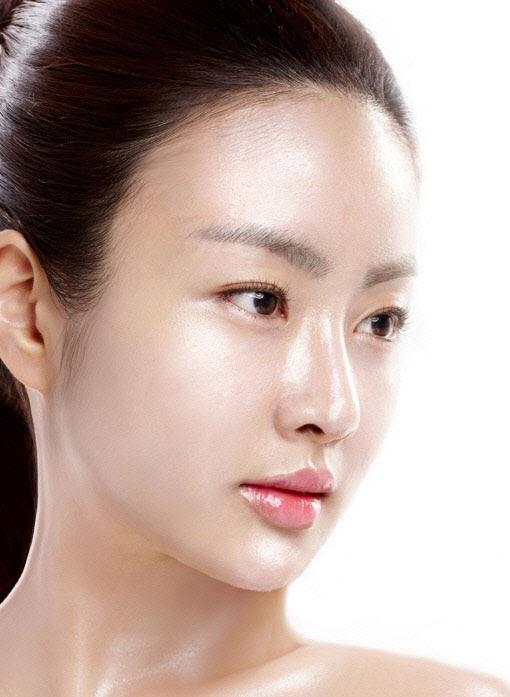Oily-Skin: (219, 119, 315, 242), (360, 95, 416, 230), (326, 293, 364, 433), (177, 300, 234, 392), (281, 312, 316, 391), (252, 525, 295, 575)
